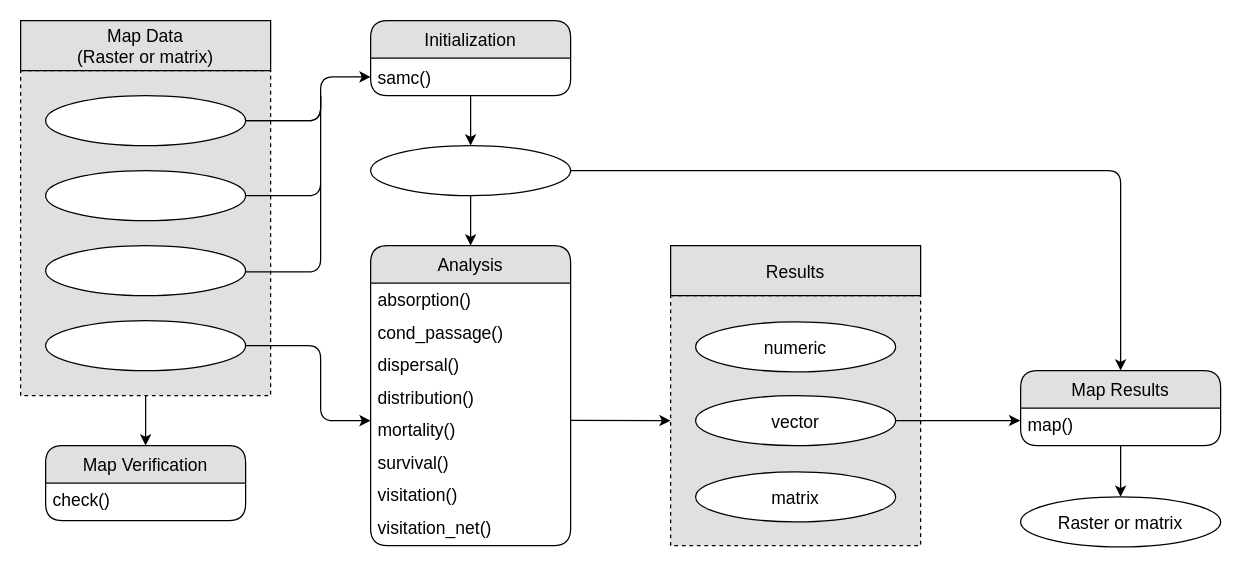
This 1241x568 diagram has some shape labels left out. The centre of each missing label's shape, as x and y in pixels:
"Absorption (Required)" belongs at point (145, 195).
"Fidelity (Optional)" belongs at point (145, 270).
"Occupancy (Optional)" belongs at point (145, 345).
"Resistance (Required)" belongs at point (145, 120).
"samc-class object" belongs at point (470, 170).
